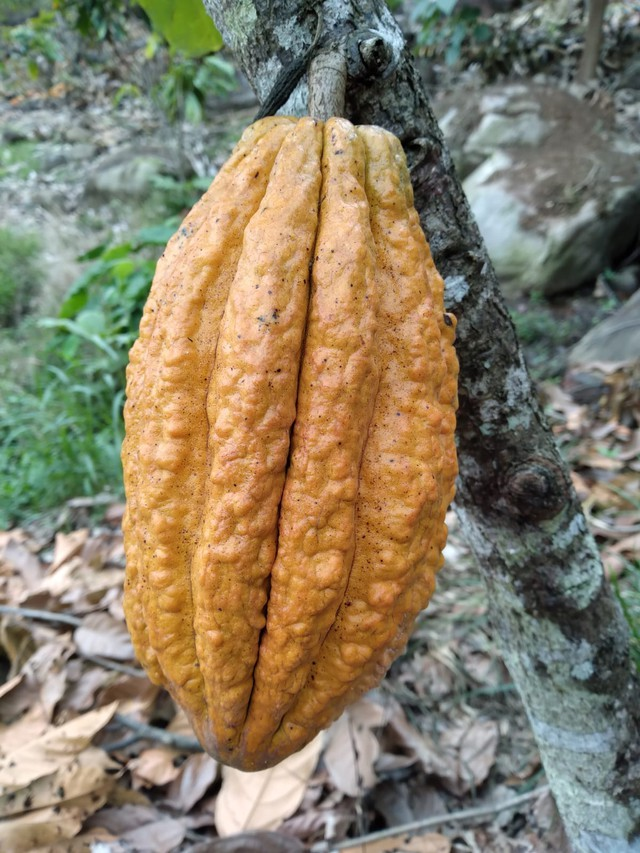Health: (111, 110, 468, 775)
